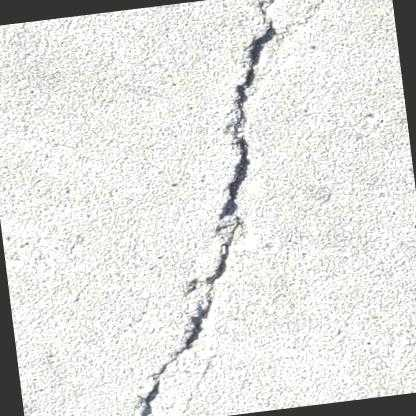crack: (139, 0, 276, 416)
